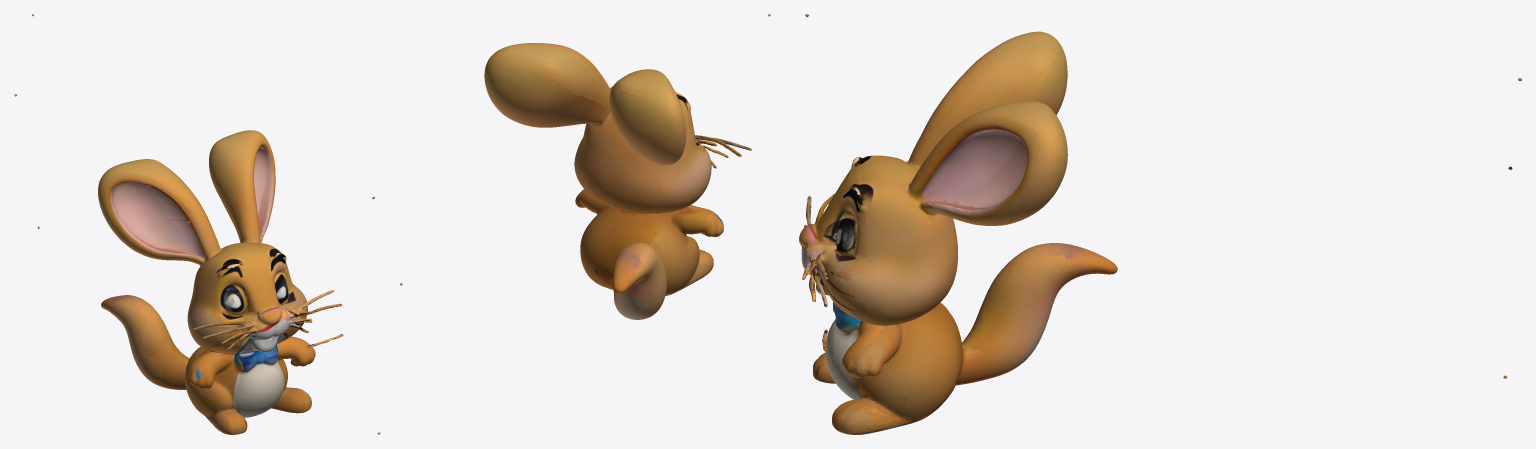
File: rabbit_curious.glb
The picture shows the model from 3 angles, left to right: view 1: azimuth 30°, elevation 25°; view 2: azimuth 150°, elevation 25°; view 3: azimuth 270°, elevation 25°; orthographic projection. The views are drawn at different scales.
Parts seen in each view (by area): view 1: companions-rabbit-rabbit_curious_textured; view 2: companions-rabbit-rabbit_curious_textured; view 3: companions-rabbit-rabbit_curious_textured.
Boxes of the visible parts, x1,y1,x2,y2 form: companions-rabbit-rabbit_curious_textured: (14, 14, 343, 434); companions-rabbit-rabbit_curious_textured: (372, 14, 770, 434); companions-rabbit-rabbit_curious_textured: (799, 14, 1521, 434).
Size of the model in its own units: 0.772 by 1.02 by 1.98.
Materials: 1 (1 with a texture image).
